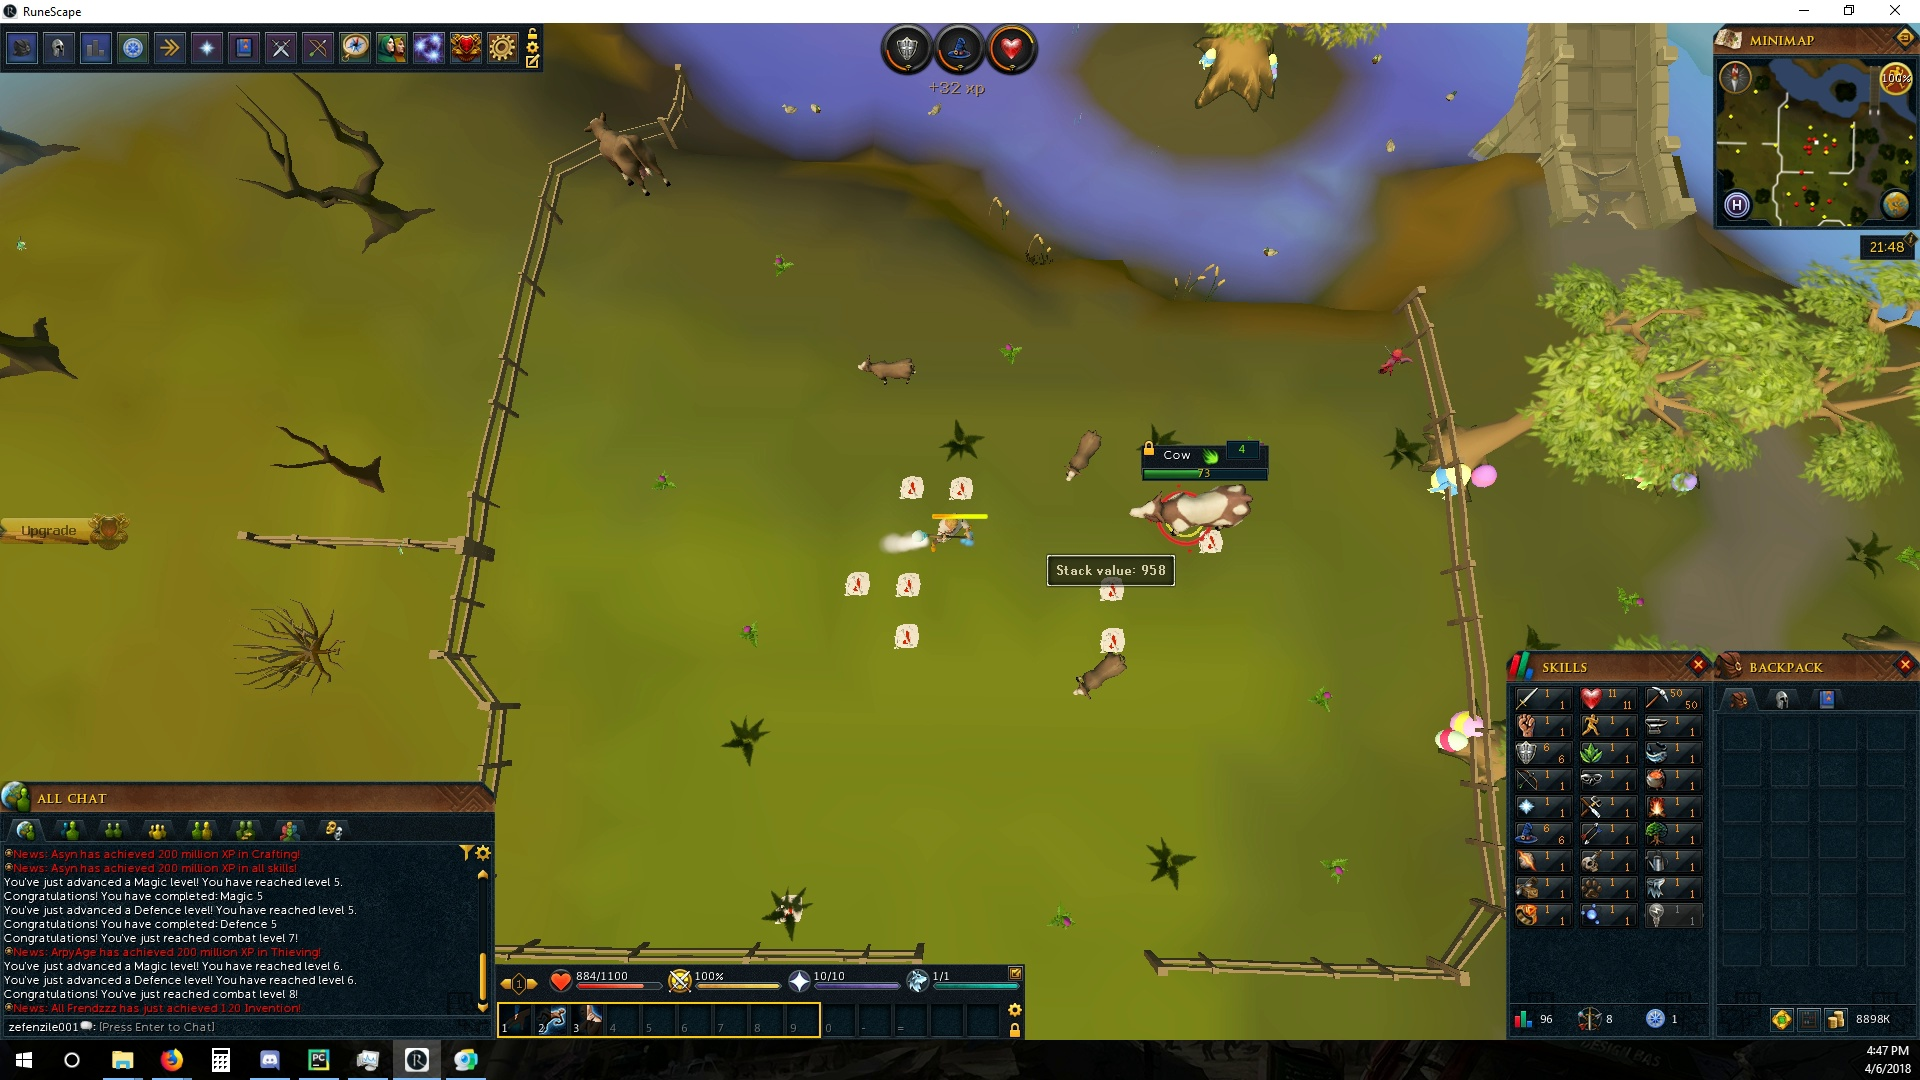calf: (1065, 647, 1129, 705), (852, 353, 919, 392), (1060, 429, 1102, 485)
cow: (582, 109, 676, 198), (1127, 477, 1254, 541)
cow_drop: (886, 618, 923, 653), (1096, 624, 1131, 654), (839, 568, 873, 597), (889, 574, 927, 597), (897, 473, 927, 502), (1098, 576, 1131, 603), (945, 475, 976, 502), (1196, 527, 1229, 553)
